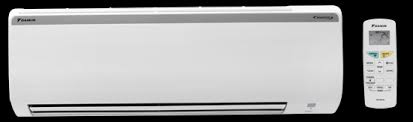ac: (5, 5, 345, 118)
